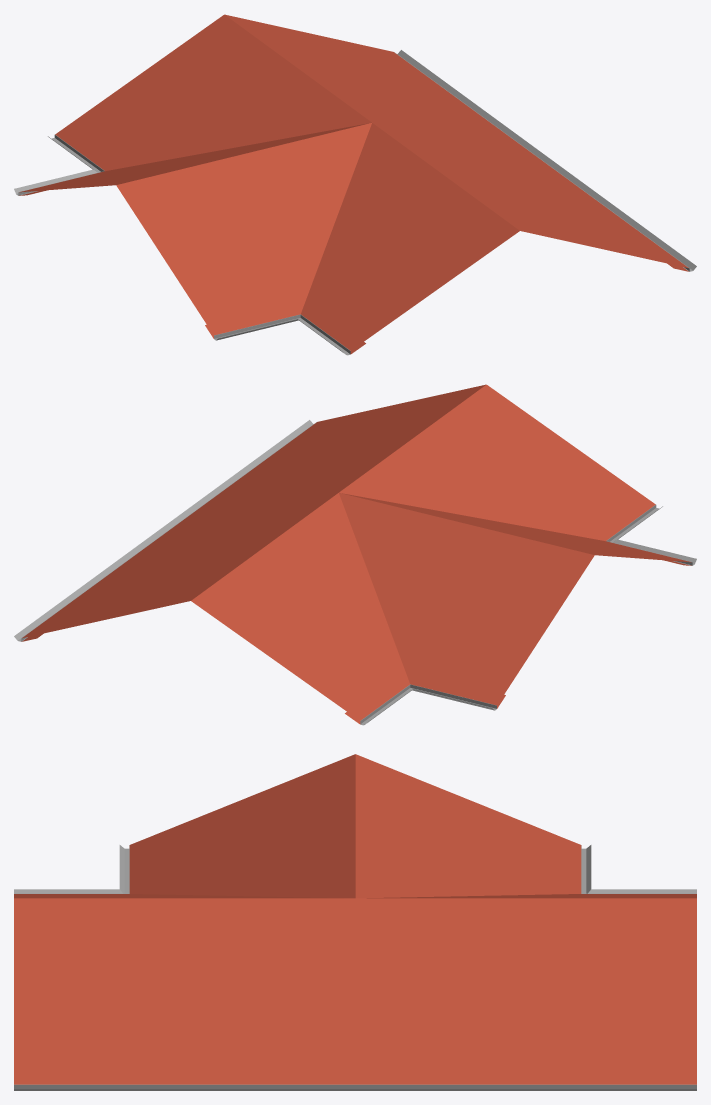
Rendered from MESH_ENV(Telhado_15x12_Formato_T).fbx.
3 renders of one model, top to bottom at view 1: azimuth 30°, elevation 25°; view 2: azimuth 150°, elevation 25°; view 3: azimuth 270°, elevation 25°, orthographic. The views are drawn at different scales.
Parts seen in each view (by area): view 1: MESH_ENV(Telhado_15x12_Formato_T)_LOD0; view 2: MESH_ENV(Telhado_15x12_Formato_T)_LOD0; view 3: MESH_ENV(Telhado_15x12_Formato_T)_LOD0.
Part boxes in pixels (x1=…): MESH_ENV(Telhado_15x12_Formato_T)_LOD0: x1=14, y1=14, x2=696, y2=355; MESH_ENV(Telhado_15x12_Formato_T)_LOD0: x1=14, y1=384, x2=696, y2=725; MESH_ENV(Telhado_15x12_Formato_T)_LOD0: x1=14, y1=754, x2=696, y2=1090.
Bounding box in the file's own units: 1268 × 230 × 1500.
